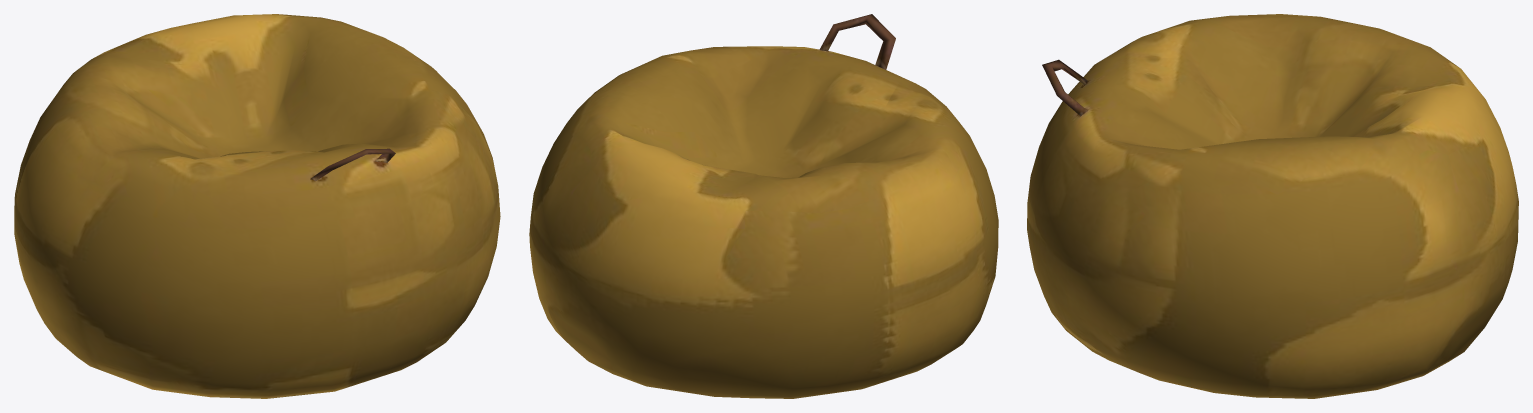
The model's file is bean_mustard.glb.
3 views of the same model, side by side, from view 1: azimuth 30°, elevation 25°; view 2: azimuth 150°, elevation 25°; view 3: azimuth 270°, elevation 25° (orthographic). The views are drawn at different scales.
Visible parts, largest first — view 1: prop_bean_mustard_felt; view 2: prop_bean_mustard_felt; view 3: prop_bean_mustard_felt.
Part boxes in pixels (x1=…): prop_bean_mustard_felt: x1=14, y1=14, x2=500, y2=398; prop_bean_mustard_felt: x1=529, y1=14, x2=998, y2=398; prop_bean_mustard_felt: x1=1027, y1=14, x2=1518, y2=398.
Size of the model in its own units: 1.19 by 0.6467 by 1.16.
1 material, 1 textured.
